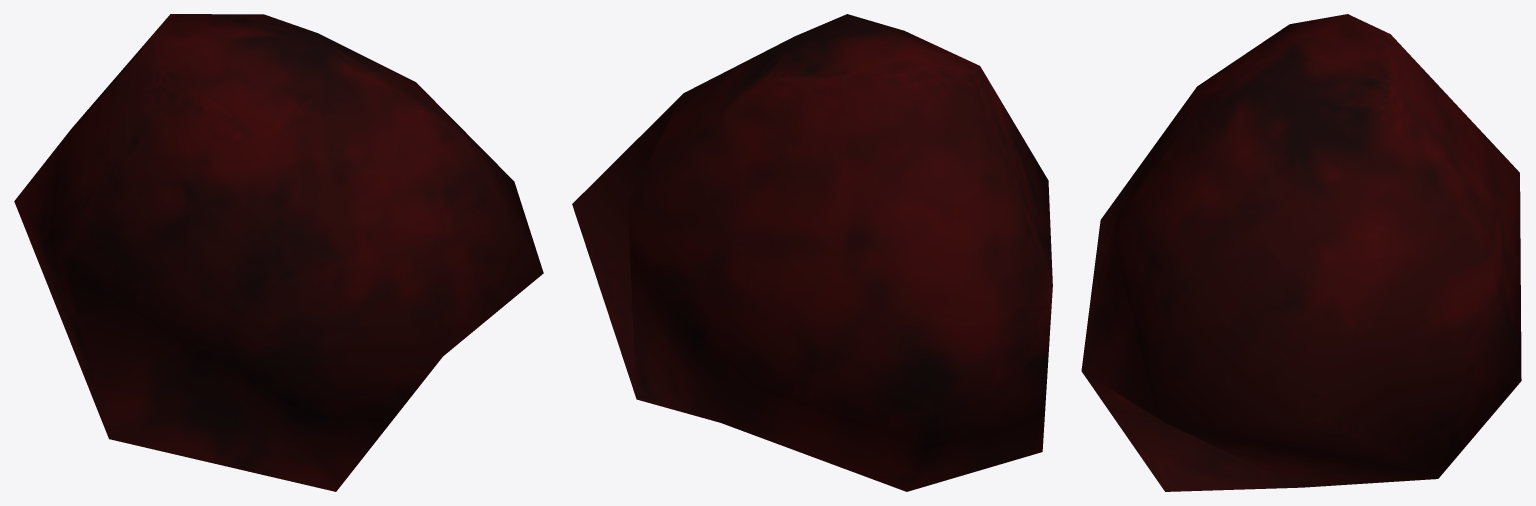
Rendered from escenario_object_hassle_zurro_2_piedra.fbx.
3 renders of one model, left to right at view 1: azimuth 30°, elevation 25°; view 2: azimuth 150°, elevation 25°; view 3: azimuth 270°, elevation 25°, orthographic. The views are drawn at different scales.
Parts seen in each view (by area): view 1: Planeta.001; view 2: Planeta.001; view 3: Planeta.001.
Boxes of the visible parts, x1,y1,x2,y2 form: Planeta.001: (14,14,543,491); Planeta.001: (572,14,1052,491); Planeta.001: (1081,14,1521,491).
Size of the model in its own units: 3603 by 3149 by 2921.
Materials: 1 (1 with a texture image).
